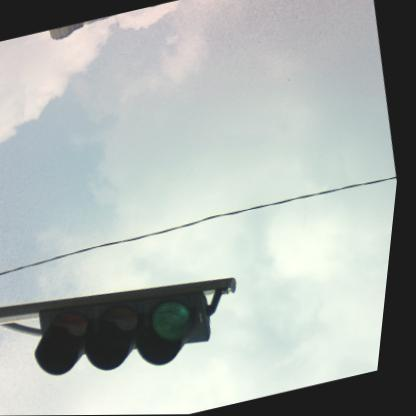green: (30, 272, 230, 392)
